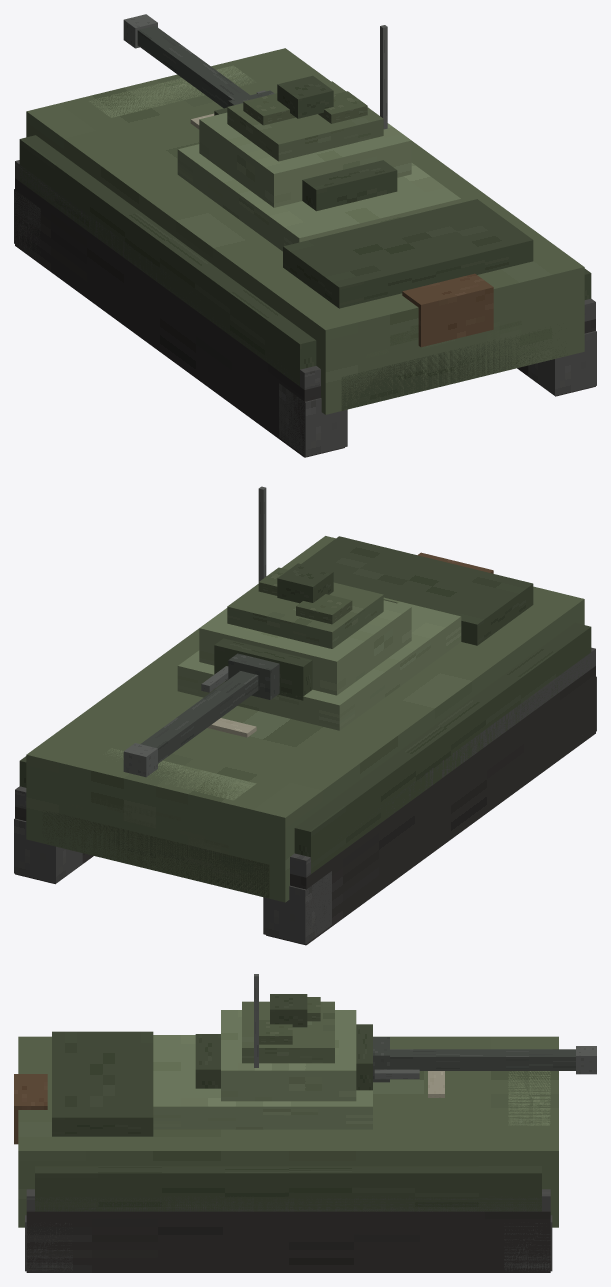
File: Tanque de guerra.obj
The picture shows the model from 3 angles, top to bottom: view 1: azimuth 30°, elevation 25°; view 2: azimuth 150°, elevation 25°; view 3: azimuth 270°, elevation 25°; orthographic projection. The views are drawn at different scales.
Visible parts, largest first — view 1: Casco_Principal, Oruga_Izquierda, Guardabarros_Izq, Placa_Motor_Trasera, Placa_Superior_Centro, Torreta_Base, Trasera_1, Torreta_Techo, Bidon_Trasero, Trasera_2, Rueda_Tractora_Rear_Izq, Torreta_Trasera (+10 smaller); view 2: Casco_Principal, Oruga_Izquierda, Guardabarros_Izq, Placa_Motor_Trasera, Placa_Superior_Centro, Torreta_Base, Frente_1, Torreta_Techo, Frente_2, Canon_Principal, Rueda_Tractora_Front_Izq, Oruga_Superior_Izquierda (+8 smaller); view 3: Casco_Principal, Oruga_Derecha, Guardabarros_Der, Placa_Motor_Trasera, Placa_Superior_Centro, Torreta_Base, Canon_Principal, Torreta_Techo, Oruga_Superior_Derecha, Frente_3, Torreta_Trasera, Bidon_Trasero (+10 smaller).
Part boxes in pixels (<box>): Casco_Principal: <box>26,48,584,414</box>; Oruga_Izquierda: <box>15,178,344,457</box>; Guardabarros_Izq: <box>19,135,316,386</box>; Placa_Motor_Trasera: <box>283,199,533,308</box>; Placa_Superior_Centro: <box>177,144,461,251</box>; Torreta_Base: <box>199,112,411,207</box>; Trasera_1: <box>341,330,565,410</box>; Torreta_Techo: <box>227,81,383,161</box>; Bidon_Trasero: <box>402,273,493,347</box>; Trasera_2: <box>366,294,543,370</box>; Rueda_Tractora_Rear_Izq: <box>279,383,347,456</box>; Torreta_Trasera: <box>302,160,397,211</box>; Casco_Principal: <box>26,536,584,902</box>; Oruga_Izquierda: <box>266,666,595,945</box>; Guardabarros_Izq: <box>294,623,591,873</box>; Placa_Motor_Trasera: <box>301,536,533,645</box>; Placa_Superior_Centro: <box>177,597,461,730</box>; Torreta_Base: <box>199,600,411,695</box>; Frente_1: <box>42,810,269,898</box>; Torreta_Techo: <box>227,582,383,648</box>; Frente_2: <box>59,790,252,860</box>; Canon_Principal: <box>140,671,258,763</box>; Rueda_Tractora_Front_Izq: <box>263,871,331,944</box>; Oruga_Superior_Izquierda: <box>290,647,595,877</box>; Casco_Principal: <box>18,1036,558,1227</box>; Oruga_Derecha: <box>26,1211,550,1272</box>; Guardabarros_Der: <box>35,1166,541,1211</box>; Placa_Motor_Trasera: <box>52,1031,153,1136</box>; Placa_Superior_Centro: <box>153,1035,372,1129</box>; Torreta_Base: <box>221,1010,356,1101</box>; Canon_Principal: <box>390,1049,575,1070</box>; Torreta_Techo: <box>242,1001,334,1063</box>; Oruga_Superior_Derecha: <box>26,1189,550,1211</box>; Frente_3: <box>508,1071,550,1125</box>; Torreta_Trasera: <box>195,1034,220,1088</box>; Bidon_Trasero: <box>14,1074,47,1144</box>.
Bounding box in the file's own units: 2.25 × 2.12 × 4.31.
Materials: 1 (1 with a texture image).
